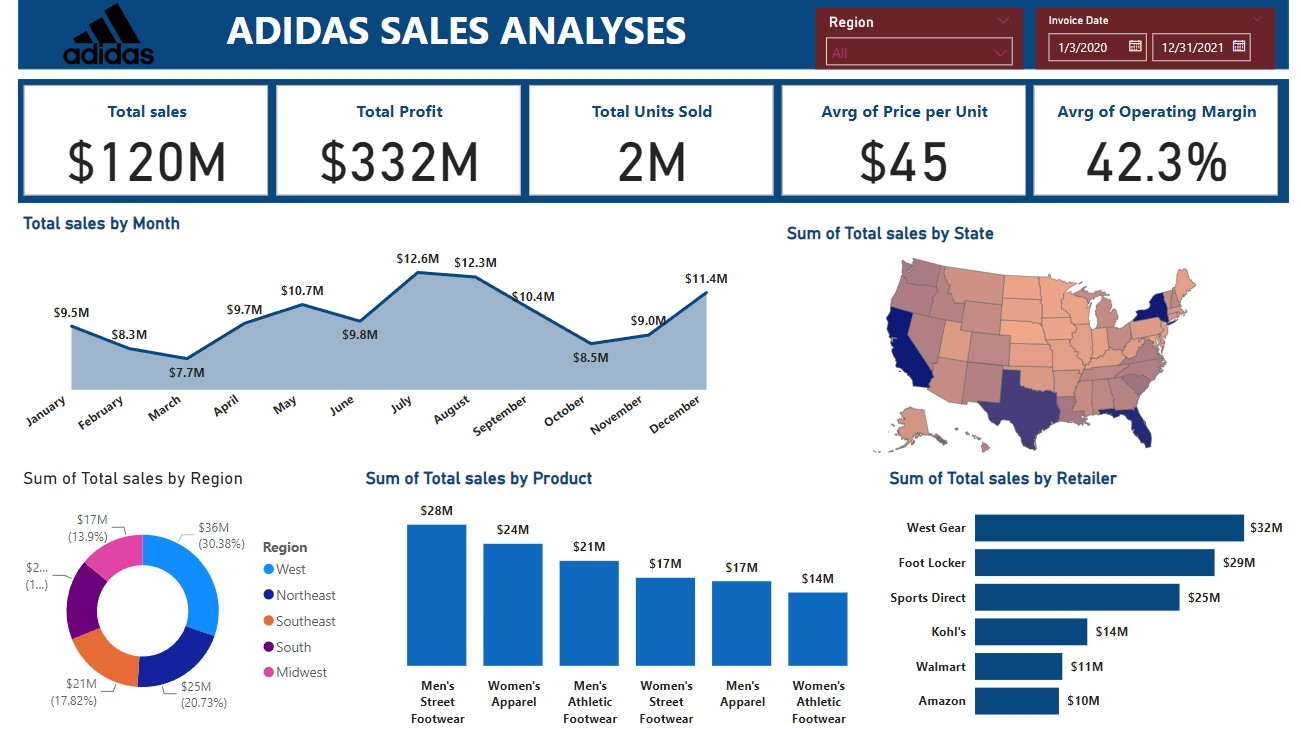

The page's visual inventory and layout, read from the dashboard file:
{"tool":"powerbi","page":{"name":"Page 1","canvas":[1280,720],"ordinal":0},"visuals":[{"type":"shape","box":[19.2,0,1243.2,70],"z":0},{"type":"textbox","box":[161.9,0,584.6,70],"z":1000},{"type":"cardVisual","fields":{"Data":["Sum(Data Sales Adidas.Total sales)","Sum(Data Sales Adidas.Operating Profit)","Sum(Data Sales Adidas.Units Sold)","Avg(Data Sales Adidas.Price per Unit)","Avg(Data Sales Adidas.Operating Margin)"]},"box":[19.2,79.6,1243.2,120.8],"z":1001},{"type":"areaChart","title":"Total sales by Month","fields":{"Y":["Sum(Data Sales Adidas.Total sales)"],"Category":["Data Sales Adidas.Invoice Date.Variation.Date Hierarchy.Month"]},"box":[19.2,209.9,701.2,240.1],"z":1002},{"type":"shapeMap","fields":{"Category":["Data Sales Adidas.State"],"Value":["Sum(Data Sales Adidas.Total sales)"]},"box":[767.1,219.6,495.4,240.1],"z":1003},{"type":"donutChart","fields":{"Y":["Sum(Data Sales Adidas.Total sales)"],"Category":["Data Sales Adidas.Region"]},"box":[19.2,459.7,325.2,260.7],"z":1004},{"type":"columnChart","fields":{"Y":["Sum(Data Sales Adidas.Total sales)"],"Category":["Data Sales Adidas.Product"]},"box":[354,459.7,513.2,260.7],"z":1005},{"type":"clusteredBarChart","fields":{"Y":["Sum(Data Sales Adidas.Total sales)"],"Category":["Data Sales Adidas.Retailer"]},"box":[867.2,459.7,395.2,260.7],"z":1006},{"type":"image","box":[34.3,0,148.2,70],"z":1007},{"type":"slicer","fields":{"Values":["Data Sales Adidas.Region"]},"box":[800,9.6,203.1,60.4],"z":1008},{"type":"slicer","fields":{"Values":["Data Sales Adidas.Invoice Date"]},"box":[1015.4,9.6,234.6,60.4],"z":1009}]}

Visuals, with their boxes in screenshot pixels (x1, y1, x2, y2), scaled from the page's 1280x720 canvas onto the 1301x730 screenshot:
shape: l=20, t=0, r=1283, b=71
textbox: l=165, t=0, r=759, b=71
cardVisual - Sum(Data Sales Adidas.Total sales) x Sum(Data Sales Adidas.Operating Profit): l=20, t=81, r=1283, b=203
"Total sales by Month" areaChart: l=20, t=213, r=732, b=456
shapeMap - Data Sales Adidas.State x Sum(Data Sales Adidas.Total sales): l=780, t=223, r=1283, b=466
donutChart - Sum(Data Sales Adidas.Total sales) x Data Sales Adidas.Region: l=20, t=466, r=350, b=729
columnChart - Sum(Data Sales Adidas.Total sales) x Data Sales Adidas.Product: l=360, t=466, r=881, b=729
clusteredBarChart - Sum(Data Sales Adidas.Total sales) x Data Sales Adidas.Retailer: l=881, t=466, r=1283, b=729
image: l=35, t=0, r=185, b=71
slicer - Data Sales Adidas.Region: l=813, t=10, r=1020, b=71
slicer - Data Sales Adidas.Invoice Date: l=1032, t=10, r=1271, b=71
